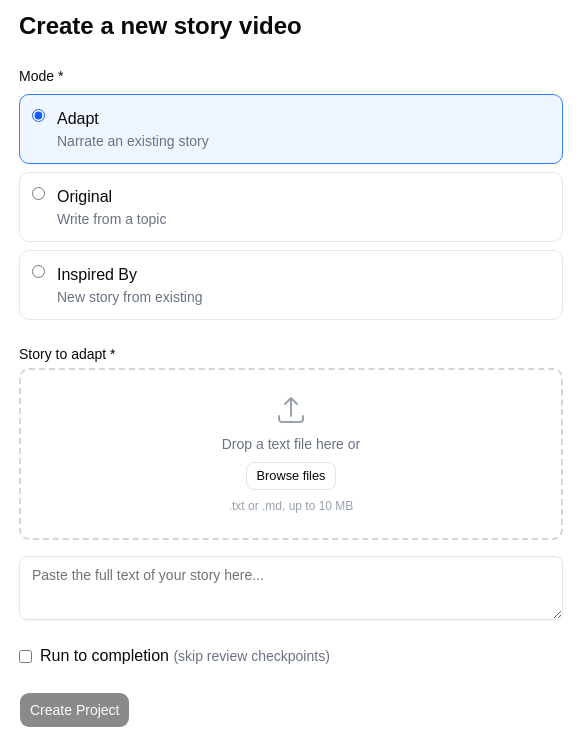
Test case: UnifiedProjectPage - Creation mode › shows error on submission failure without clearing input
This screenshot has width=583, height=746.
Type "A test story" into the text box labelled "Story to adapt *" at (291, 588), box x1=19 y1=556 x2=563 y2=620
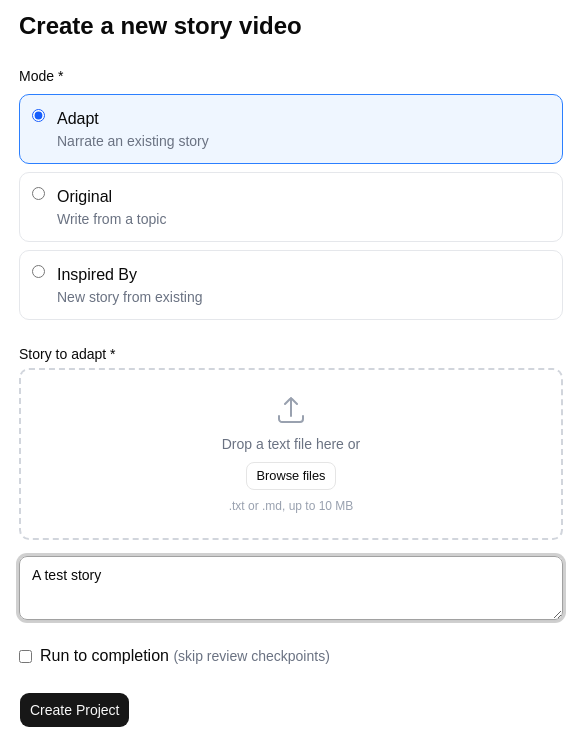
Click the button "Create Project" at (75, 710), box x1=19 y1=692 x2=130 y2=728
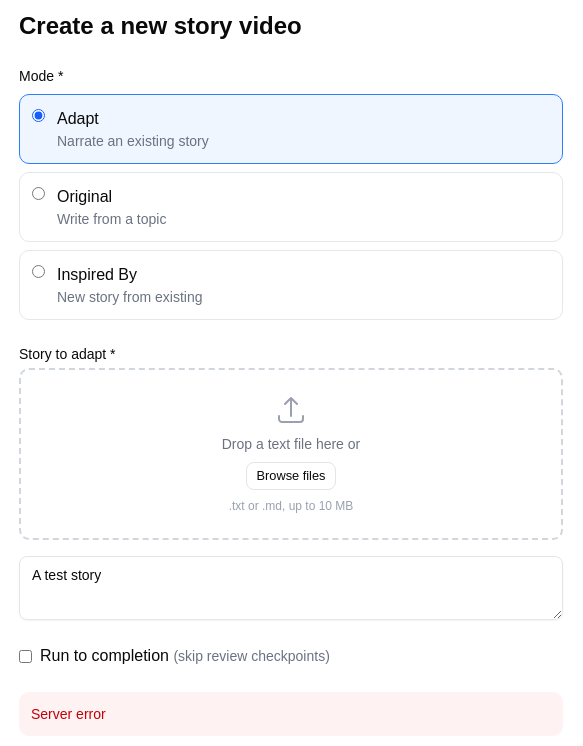
Result: the message reads "Server error" at x1=31 y1=706 x2=106 y2=722
